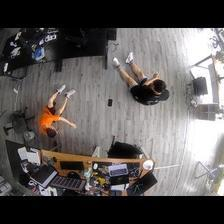fall: (112, 50, 169, 106), (40, 84, 82, 137)
